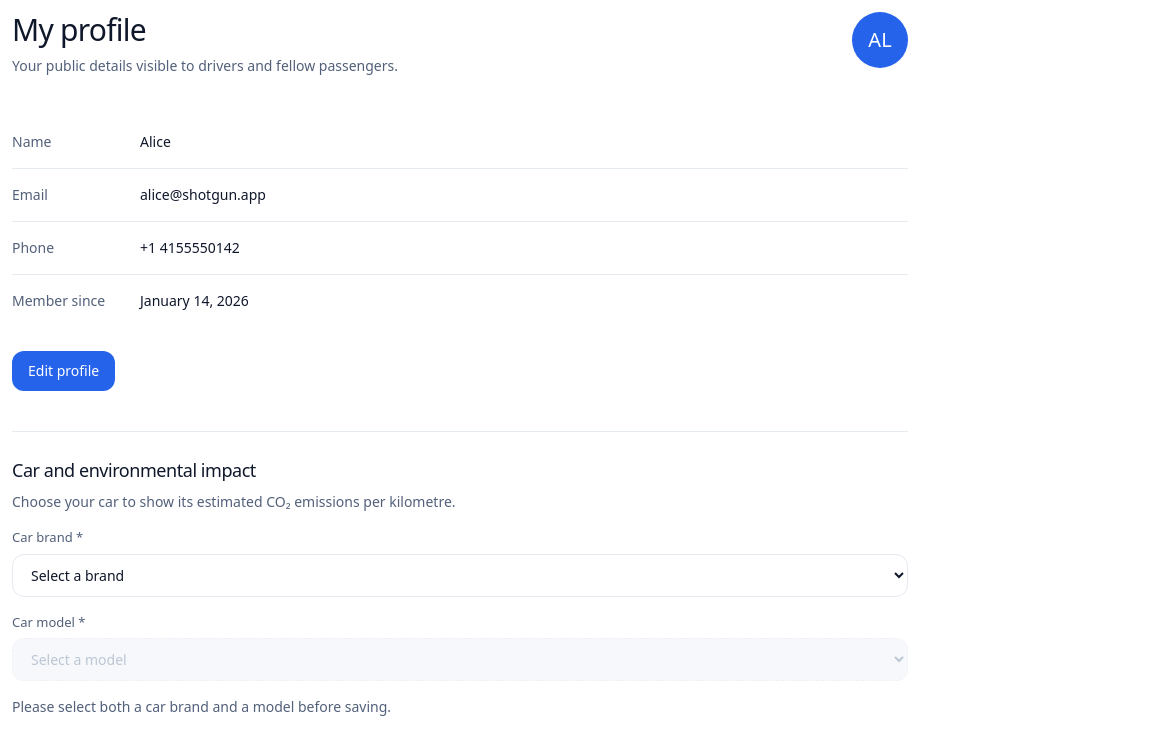
Test: ProfileView phone and password › saves a phone number chosen with a country code
This screenshot has width=1164, height=732.
Click the button "Edit profile". click: (64, 371)
box: [12, 351, 115, 391]
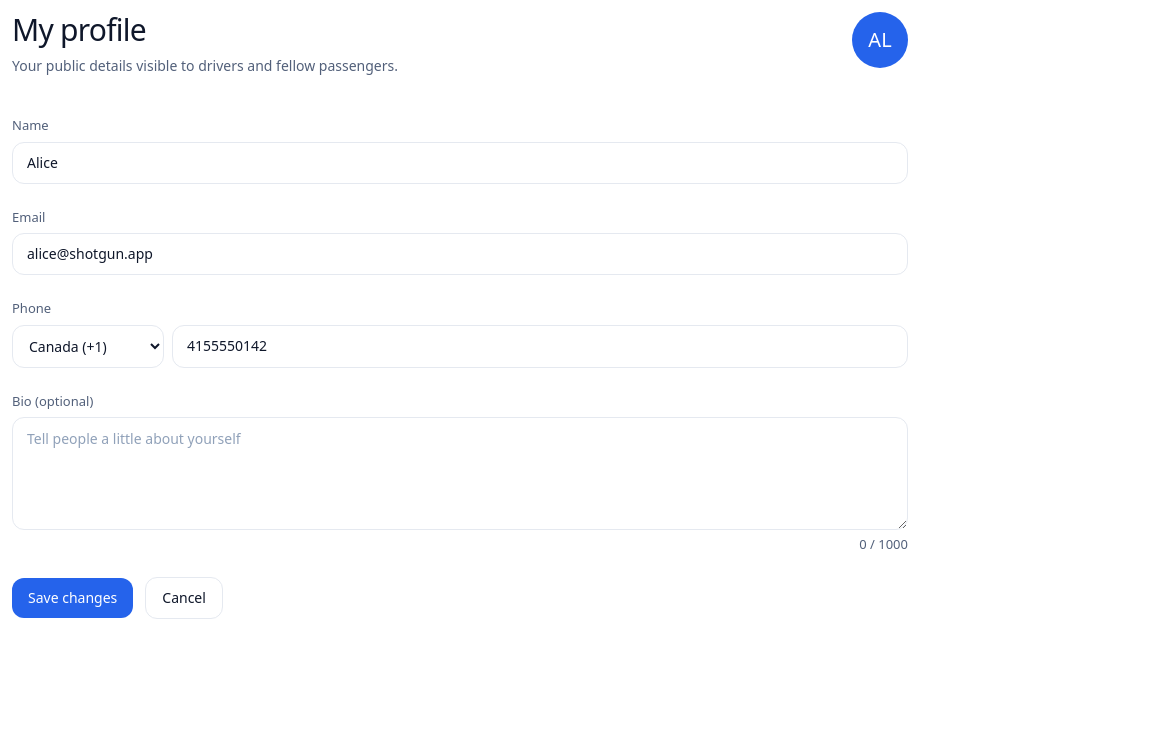
Select "Germany (+49)" in the dropdown named "Country code". click: (88, 346)
box: [12, 324, 164, 368]
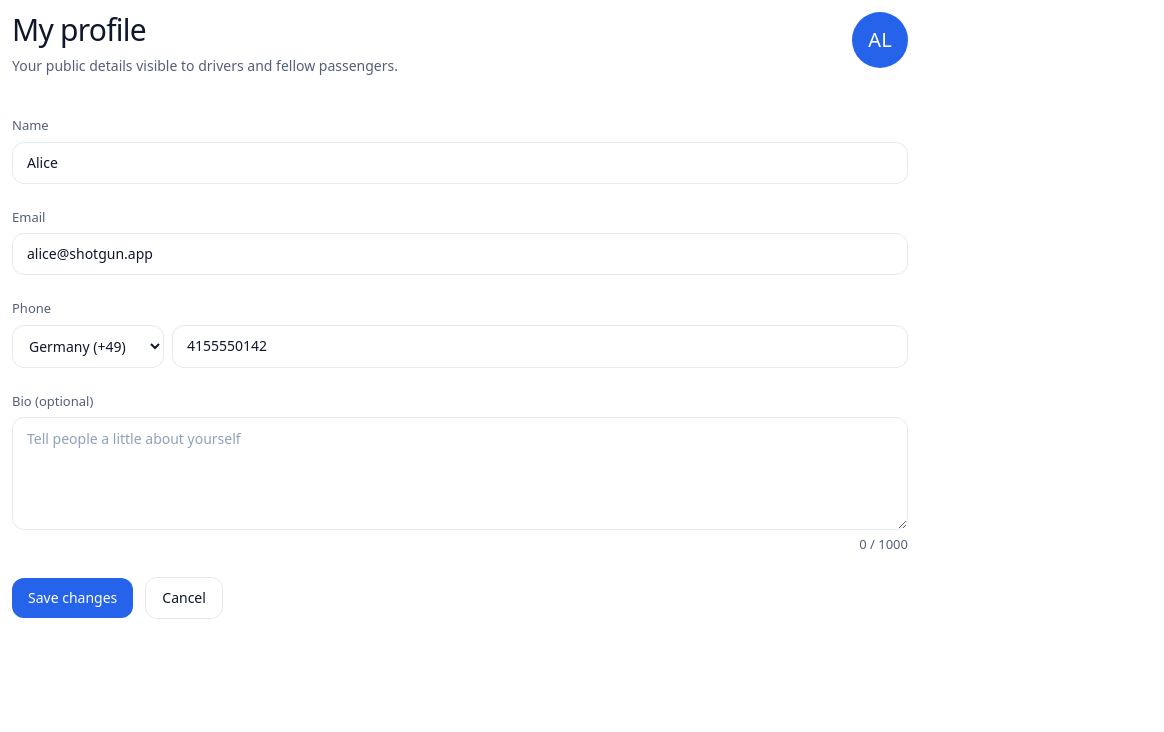
Replace the text in the field named "Phone number" with "0151 2345678". click: (540, 346)
box: [172, 324, 908, 368]
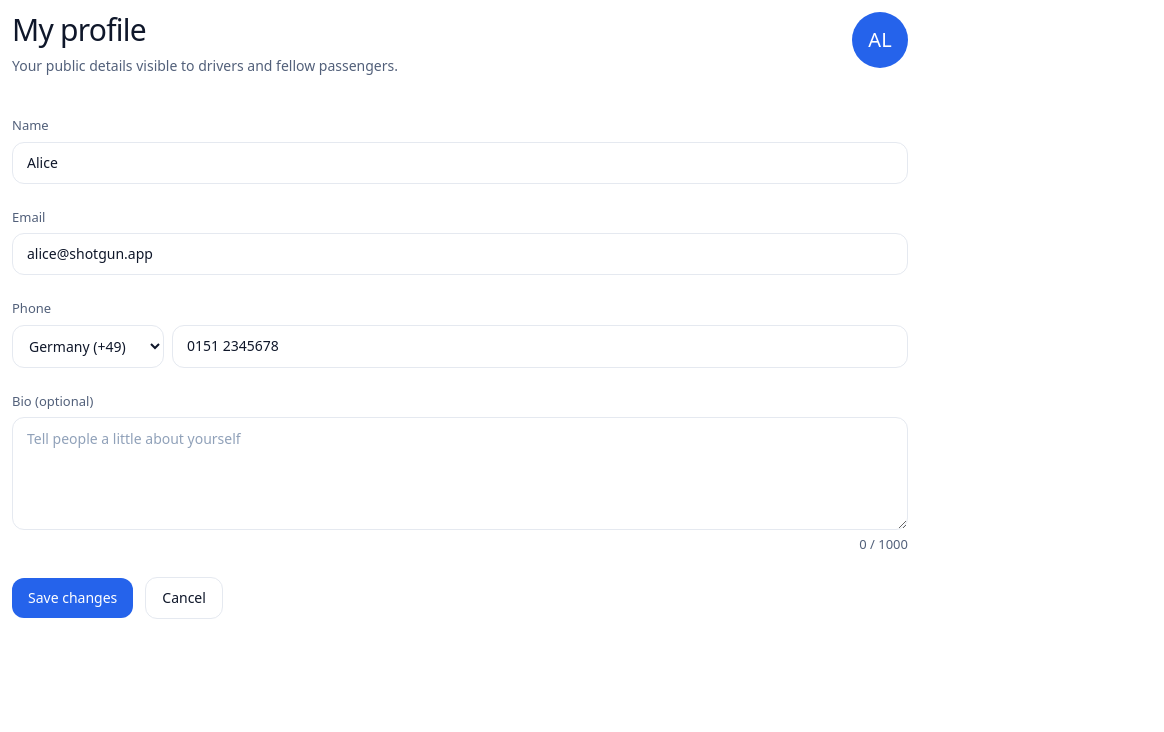
Submit the form, box [12, 116, 908, 619]
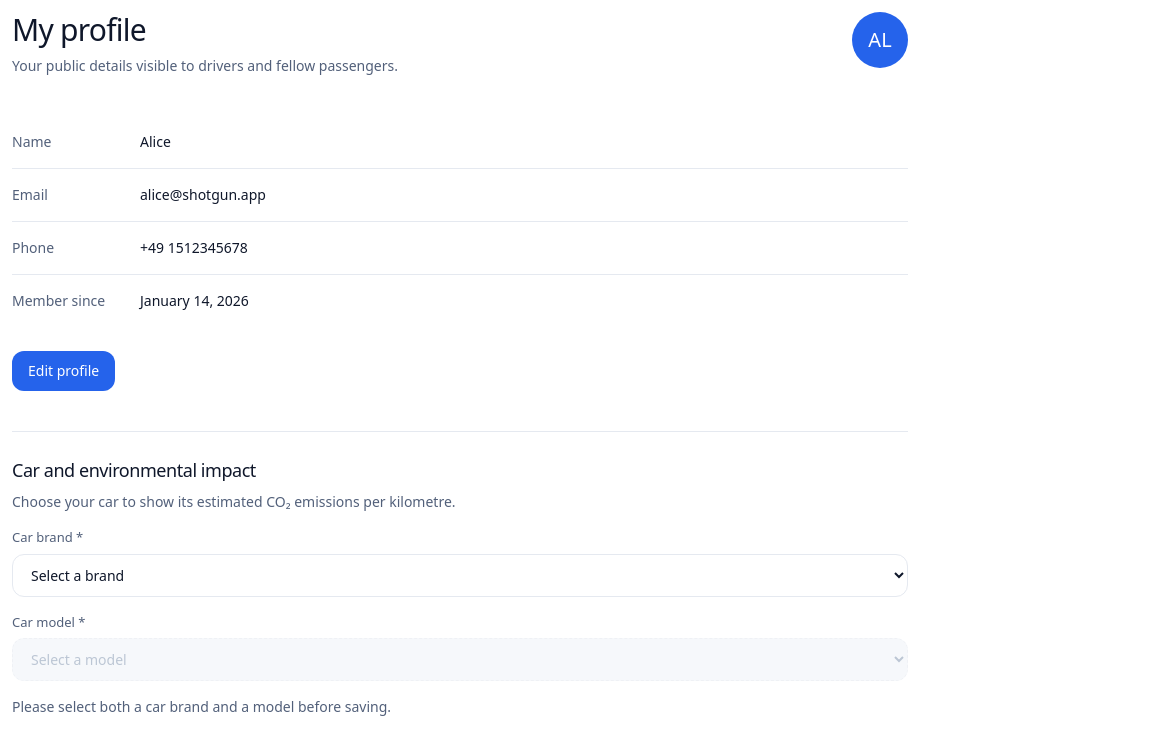
Result: the text "+49 1512345678" is shown at [140, 238, 248, 257]
